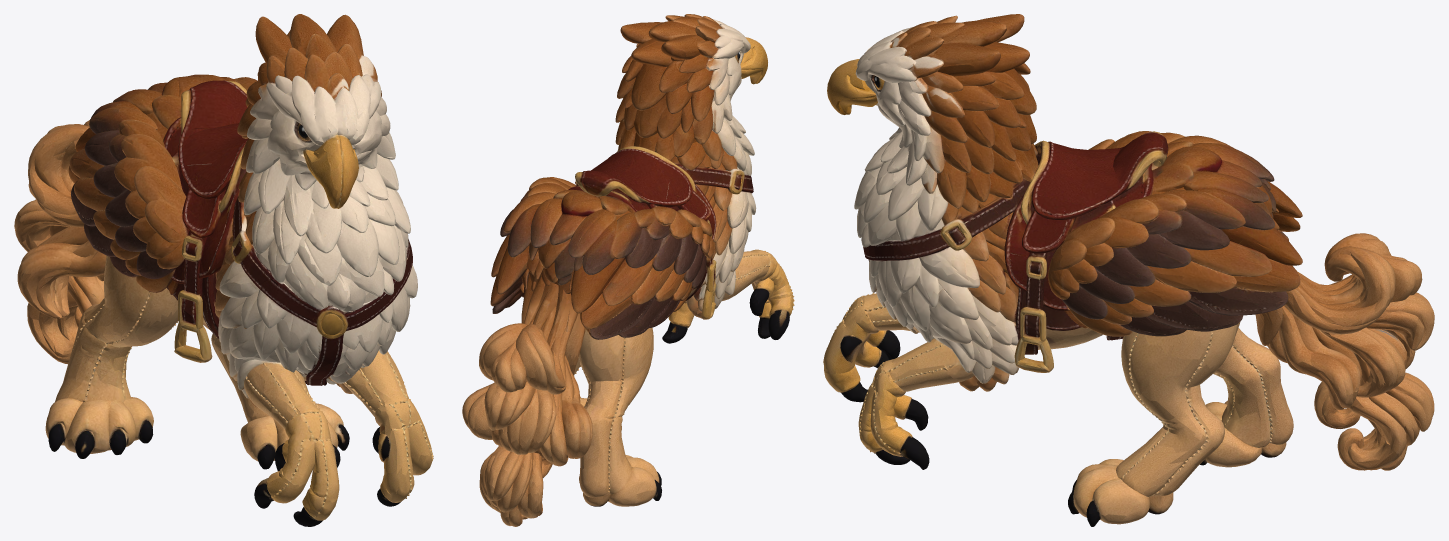
File: griffin.glb
The picture shows the model from 3 angles, left to right: view 1: azimuth 30°, elevation 25°; view 2: azimuth 150°, elevation 25°; view 3: azimuth 270°, elevation 25°; orthographic projection. The views are drawn at different scales.
Bounding box in the file's own units: 0.7722 × 1.59 × 1.9.
Materials: 1 (1 with a texture image).
